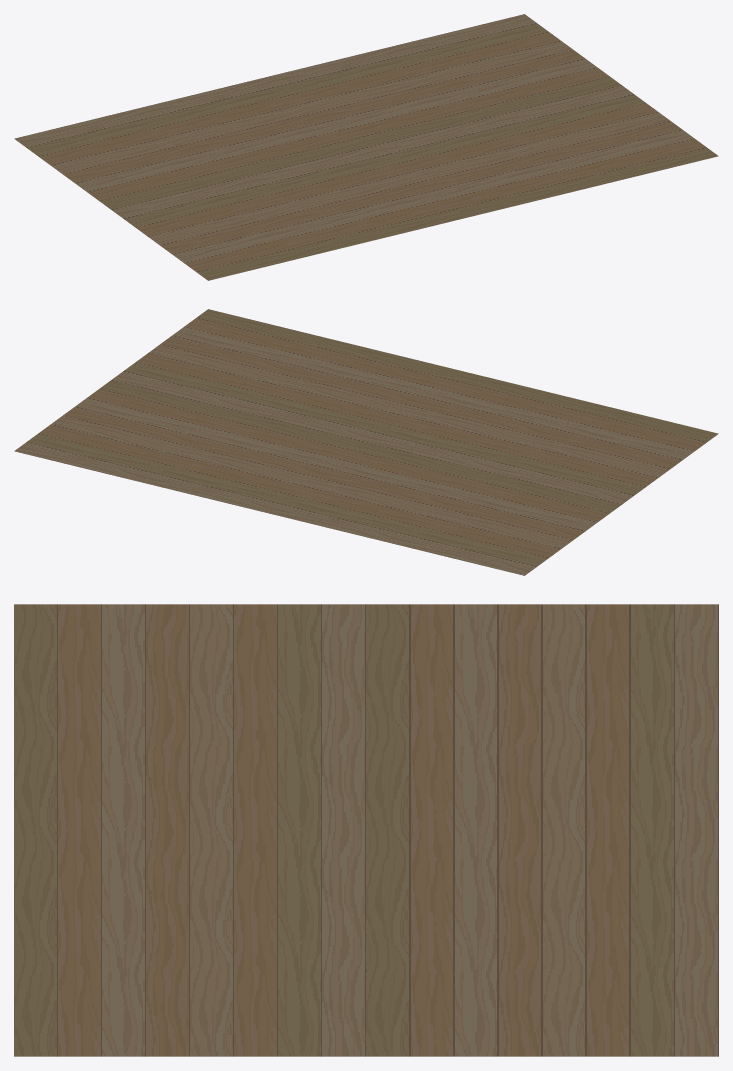
File: kd_stage_135d18_4_24_bounded_piece_4.glb
3 views of the same model, one above another, from view 1: azimuth 30°, elevation 25°; view 2: azimuth 150°, elevation 25°; view 3: azimuth 270°, elevation 25° (orthographic). The views are drawn at different scales.
Visible parts, largest first — view 1: kd_stage_135d18_4_24_bounded_piece_4; view 2: kd_stage_135d18_4_24_bounded_piece_4; view 3: kd_stage_135d18_4_24_bounded_piece_4.
Boxes of the visible parts, left/top/right/bottom form: kd_stage_135d18_4_24_bounded_piece_4: left=14, top=14, right=718, bottom=280; kd_stage_135d18_4_24_bounded_piece_4: left=14, top=309, right=718, bottom=575; kd_stage_135d18_4_24_bounded_piece_4: left=14, top=604, right=718, bottom=1056.
Size of the model in its own units: 3.09 by 4.64e-05 by 2.04.
Materials: 1 (1 with a texture image).
